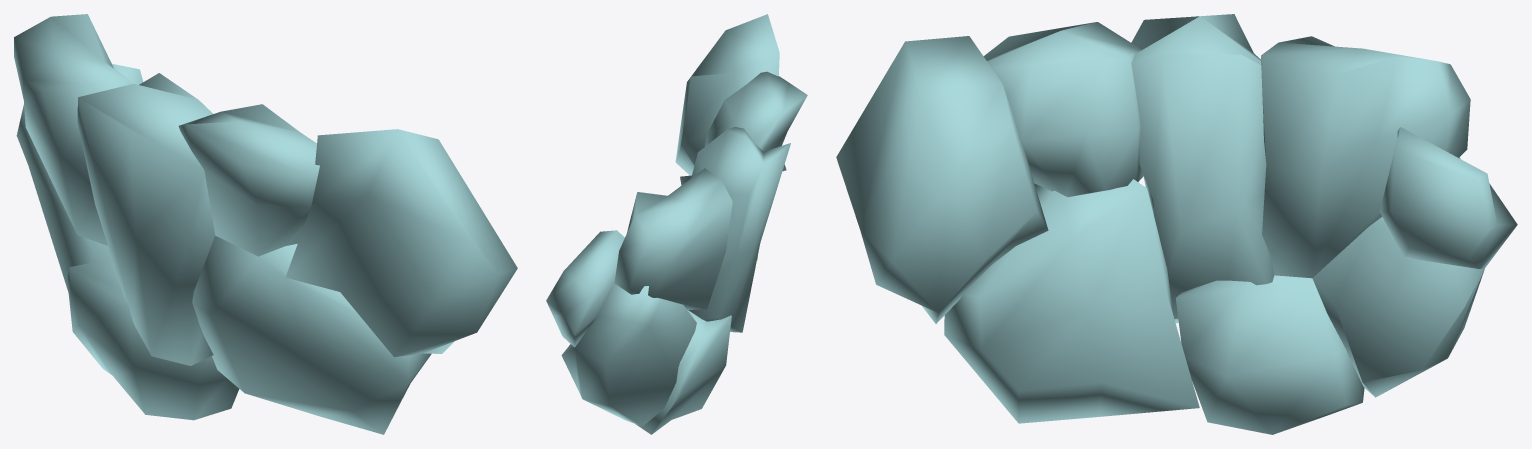
File: Skelly_hand.L.fbx
3 views of the same model, side by side, from view 1: azimuth 30°, elevation 25°; view 2: azimuth 150°, elevation 25°; view 3: azimuth 270°, elevation 25° (orthographic). The views are drawn at different scales.
Visible parts, largest first — view 1: Skelly_hand.L; view 2: Skelly_hand.L; view 3: Skelly_hand.L.
Part boxes in pixels (<box>): Skelly_hand.L: <box>14,14,517,434</box>; Skelly_hand.L: <box>546,14,807,434</box>; Skelly_hand.L: <box>836,14,1517,434</box>.
Size of the model in its own units: 3.46 by 4.84 by 7.47.
